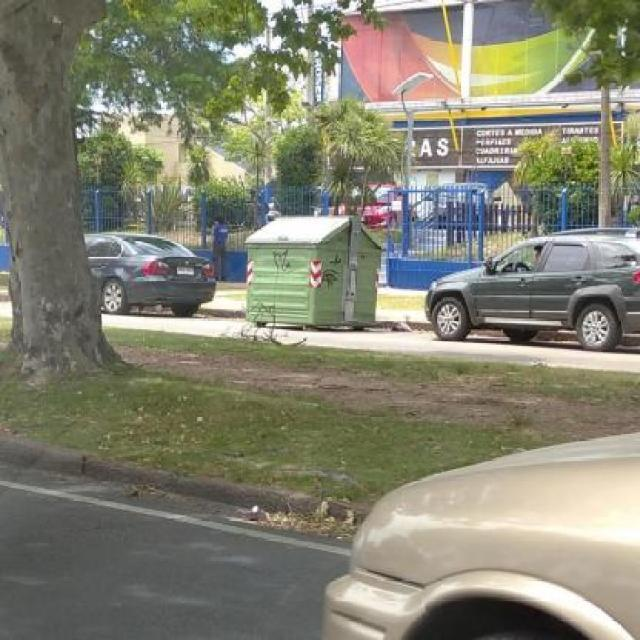garbage: (234, 483, 372, 546), (231, 303, 318, 350)
